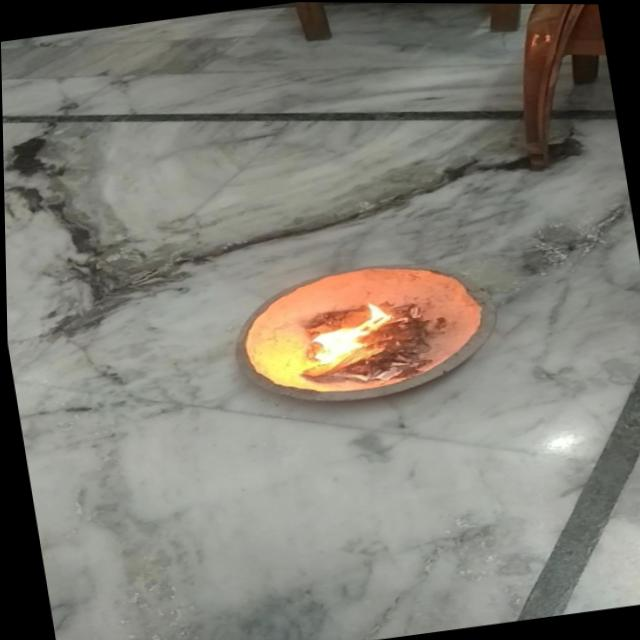fire: (292, 296, 402, 374)
